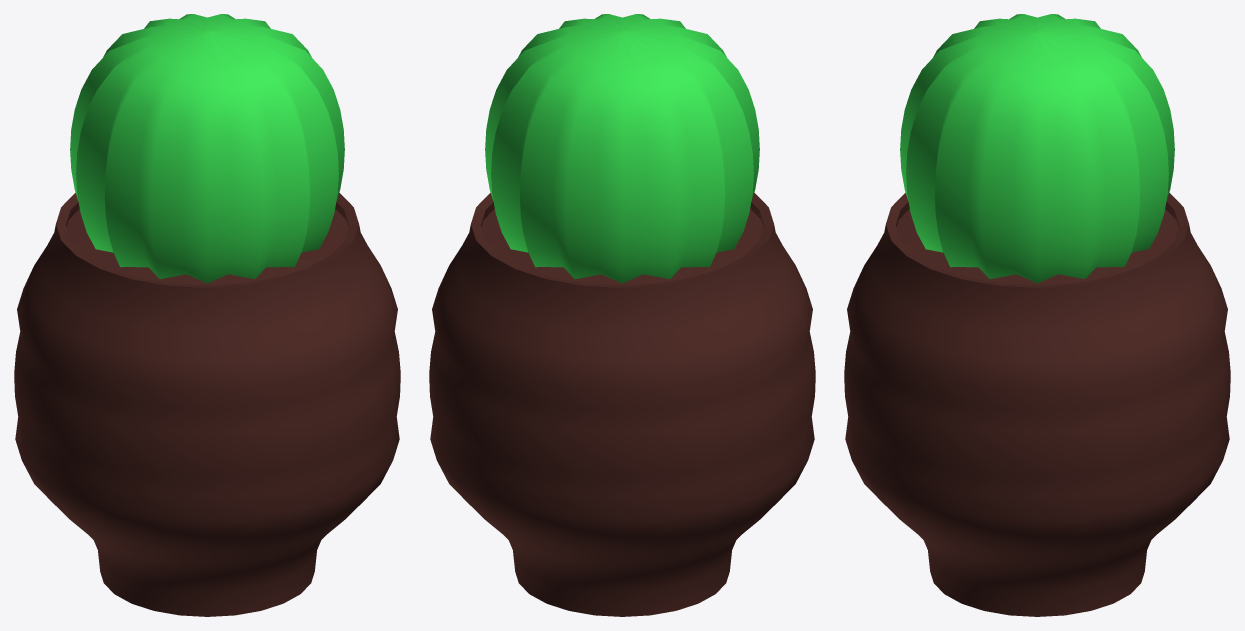
The model's file is Plante10_low.fbx.
The picture shows the model from 3 angles, left to right: view 1: azimuth 30°, elevation 25°; view 2: azimuth 150°, elevation 25°; view 3: azimuth 270°, elevation 25°; orthographic projection.
Visible parts, largest first — view 1: 10_Pot, 10_Plante, 10_Terre; view 2: 10_Pot, 10_Plante, 10_Terre; view 3: 10_Pot, 10_Plante, 10_Terre.
Boxes of the visible parts, x1,y1,x2,y2 form: 10_Pot: [14, 193, 400, 616]; 10_Plante: [70, 14, 344, 283]; 10_Terre: [66, 209, 348, 285]; 10_Pot: [429, 193, 815, 616]; 10_Plante: [485, 14, 759, 283]; 10_Terre: [481, 209, 763, 285]; 10_Pot: [844, 193, 1230, 616]; 10_Plante: [900, 14, 1174, 283]; 10_Terre: [896, 209, 1178, 285].
Bounding box in the file's own units: 46.39 × 71.42 × 46.39.
